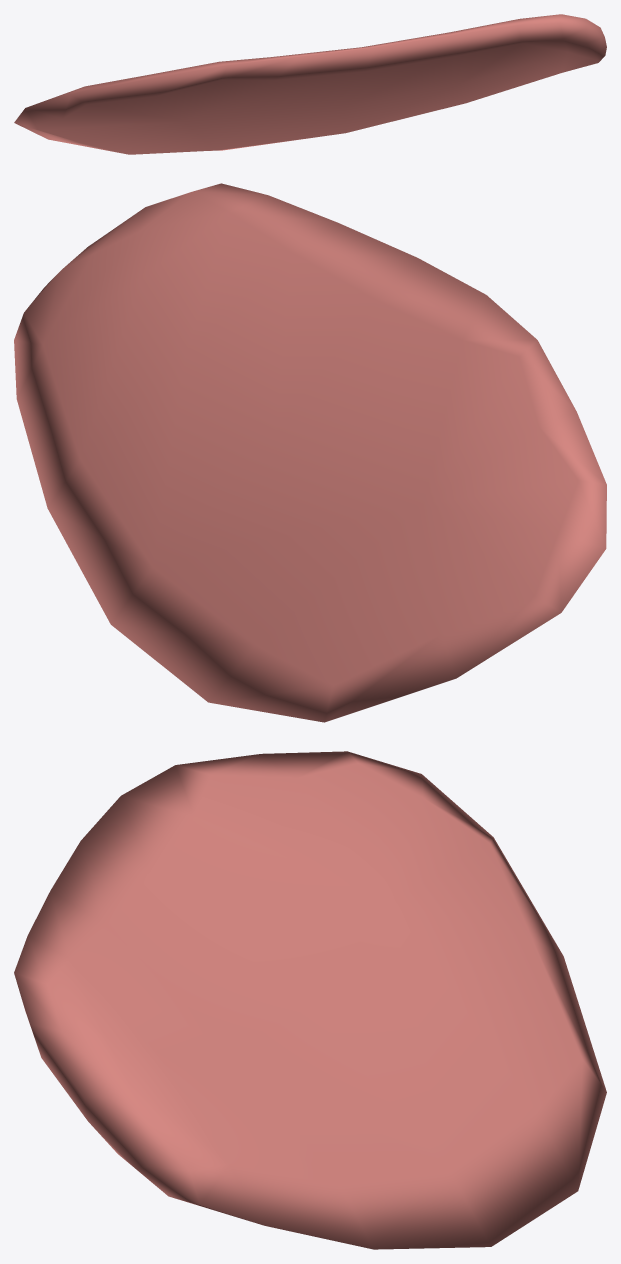
3 renders of one model, top to bottom at view 1: azimuth 30°, elevation 25°; view 2: azimuth 150°, elevation 25°; view 3: azimuth 270°, elevation 25°, orthographic. The views are drawn at different scales.
Parts seen in each view (by area): view 1: ZA_8e503dd98595e056; view 2: ZA_8e503dd98595e056; view 3: ZA_8e503dd98595e056.
Part boxes in pixels (box(x1,y1,x2,y2)): ZA_8e503dd98595e056: box(14, 14, 606, 154); ZA_8e503dd98595e056: box(14, 183, 606, 722); ZA_8e503dd98595e056: box(14, 751, 606, 1249).
Bounding box in the file's own units: 0.00767 × 0.00318 × 0.00481.
